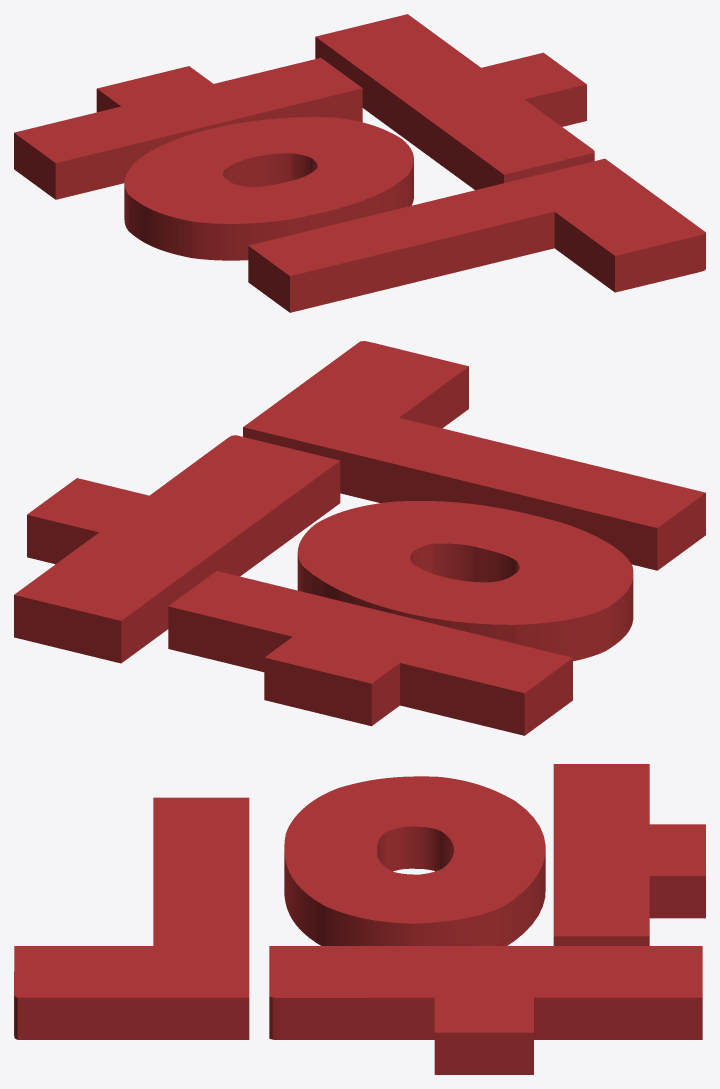
The model's file is hak.fbx.
The picture shows the model from 3 angles, top to bottom: view 1: azimuth 30°, elevation 25°; view 2: azimuth 150°, elevation 25°; view 3: azimuth 270°, elevation 25°; orthographic projection. The views are drawn at different scales.
Visible parts, largest first — view 1: Curve.001, Curve, Curve.002, Curve.003; view 2: Curve.002, Curve.001, Curve, Curve.003; view 3: Curve.002, Curve, Curve.001, Curve.003.
Part boxes in pixels (x1,y1,x2,y2): Curve.001: (248, 158, 705, 312); Curve: (124, 117, 413, 260); Curve.002: (315, 14, 594, 190); Curve.003: (14, 58, 362, 199); Curve.002: (14, 435, 340, 663); Curve.001: (243, 341, 705, 570); Curve: (297, 501, 633, 661); Curve.003: (168, 571, 572, 735); Curve.002: (269, 946, 702, 1074); Curve: (284, 776, 545, 945); Curve.001: (14, 797, 249, 1039); Curve.003: (553, 764, 705, 945).
Size of the model in its own units: 684 by 50 by 745.
